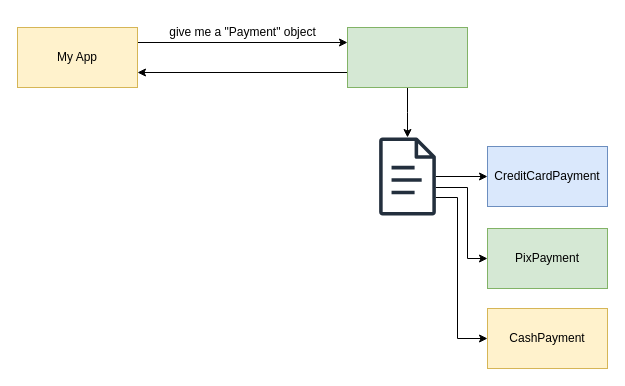
Image size: 625x386. Some labels were removed from this diagram. The centre of each missing label's shape, as x and y in pixels:
configuration: the point at 407,176
Object Factory: the point at 407,57
